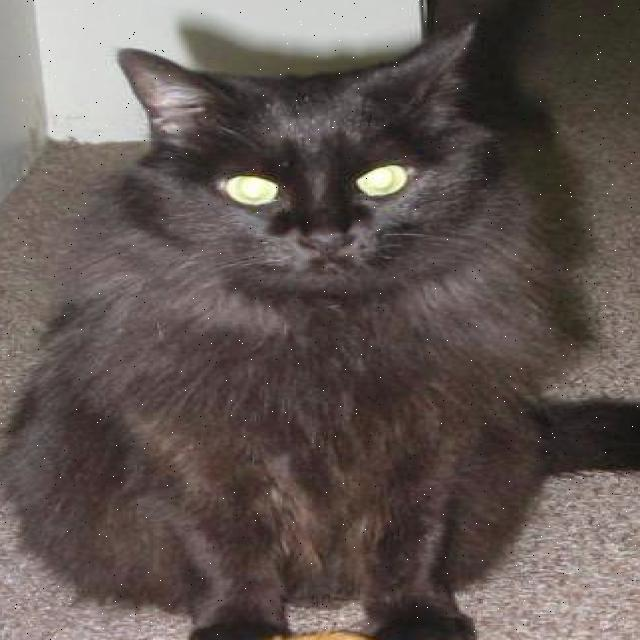Cat: (110, 42, 532, 304)
